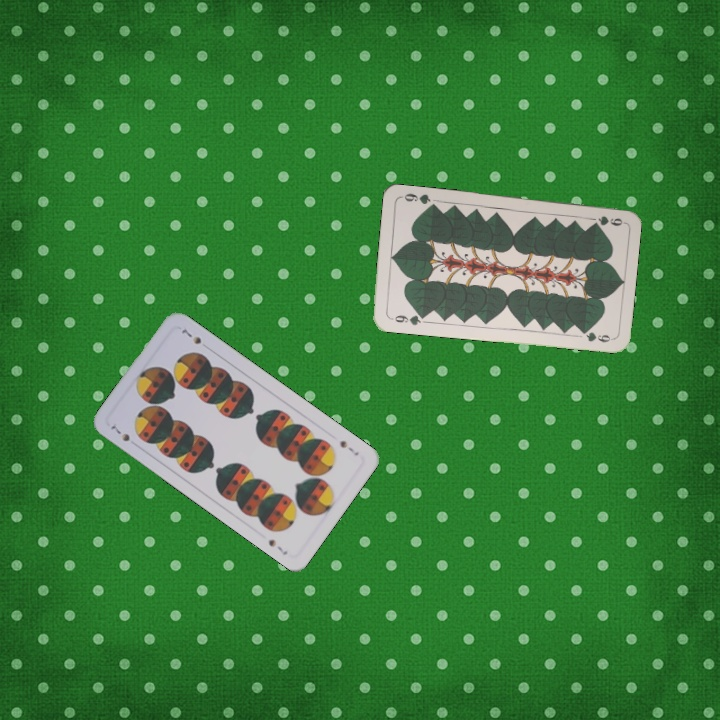G9: (386, 311, 427, 328), (594, 212, 625, 228)
S7: (107, 419, 132, 444), (336, 436, 362, 458)
